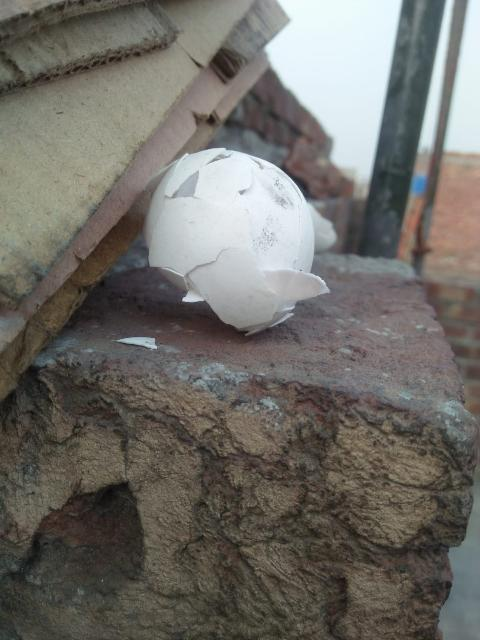Roto: (142, 146, 331, 336), (306, 201, 338, 253)
